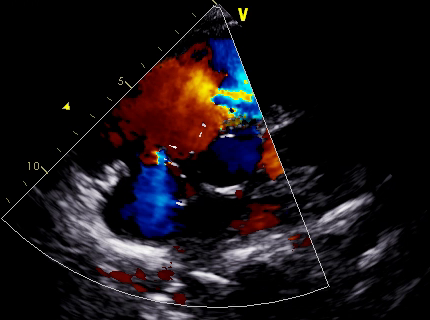TR: (125, 133, 193, 200)
